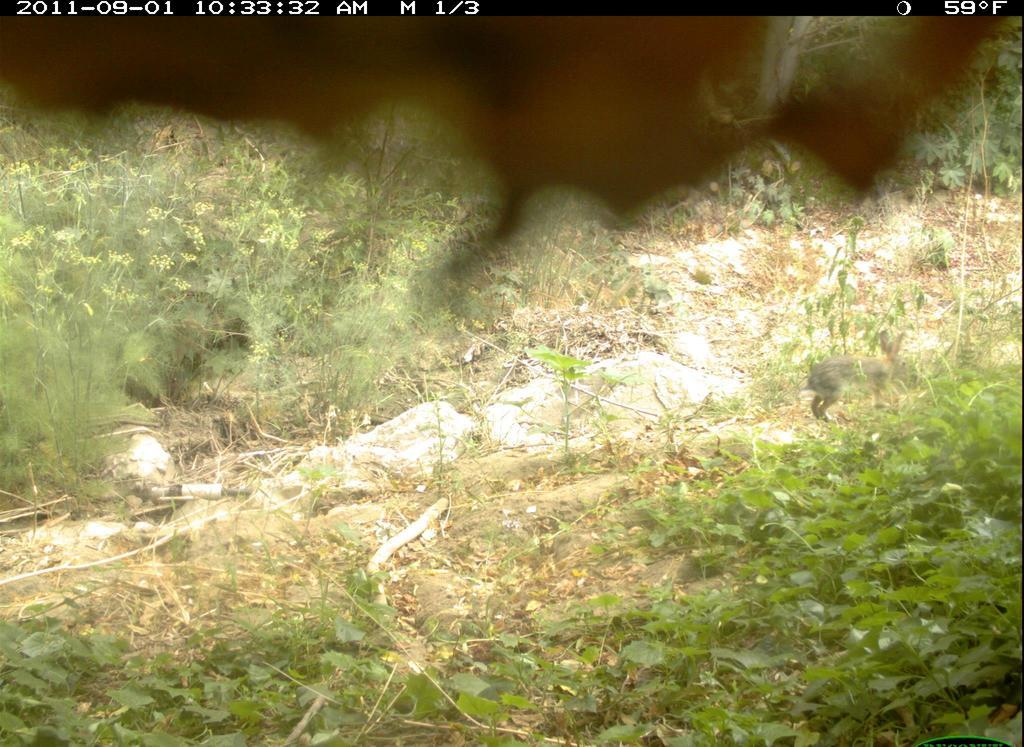rabbit: (797, 319, 920, 436)
